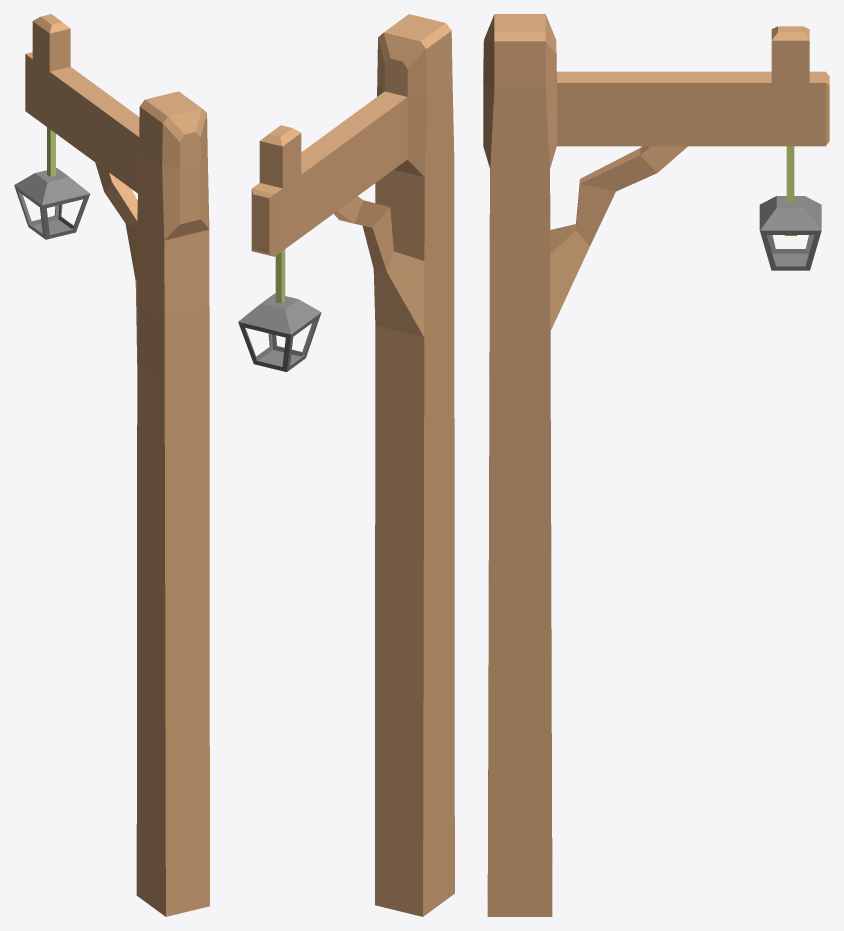
Rendered from streetlamp03.fbx.
3 views of the same model, side by side, from view 1: azimuth 30°, elevation 25°; view 2: azimuth 150°, elevation 25°; view 3: azimuth 270°, elevation 25° (orthographic). The views are drawn at different scales.
Visible parts, largest first — view 1: streetlamp03; view 2: streetlamp03; view 3: streetlamp03.
Boxes of the visible parts, bbox=[...] form: streetlamp03: bbox=[14, 14, 209, 916]; streetlamp03: bbox=[238, 14, 454, 916]; streetlamp03: bbox=[483, 14, 829, 916].
Size of the model in its own units: 4.54 by 71.49 by 25.45.
